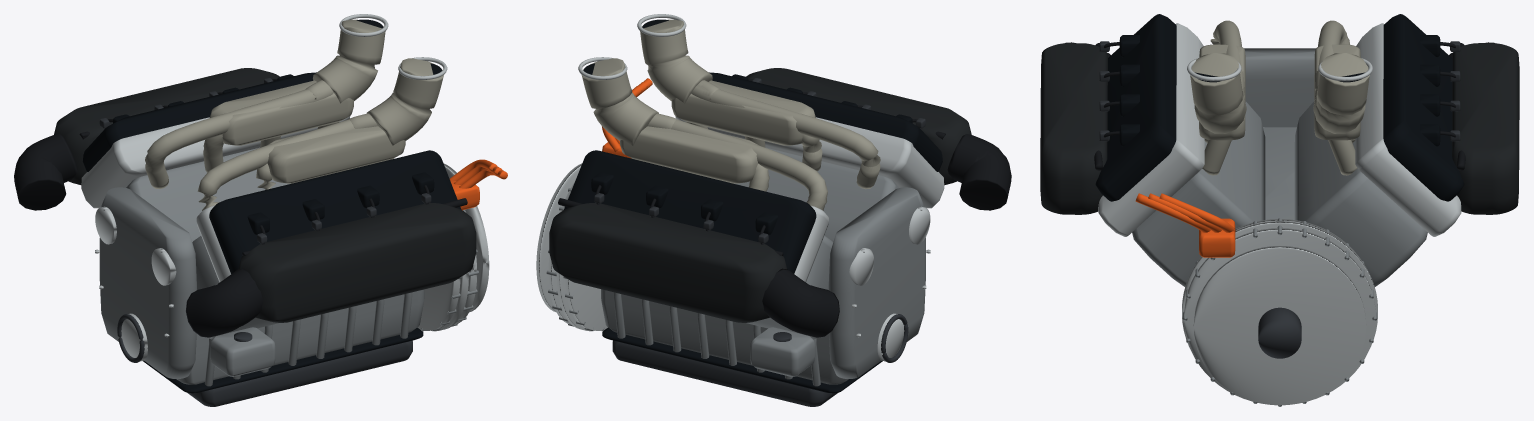
The model's file is engine-exterior.glb.
3 renders of one model, left to right at view 1: azimuth 30°, elevation 25°; view 2: azimuth 150°, elevation 25°; view 3: azimuth 270°, elevation 25°, orthographic. The views are drawn at different scales.
Parts seen in each view (by area): view 1: porsche918_outboard_intake_plenum_-1, porsche918_timing_case, porsche918_cam_cover_-1, porsche918_crankcase, porsche918_outboard_intake_plenum_1, porsche918_heatshield_-1, porsche918_heatshield_1, porsche918_cylinder_head_1, porsche918_bank_casting_1, porsche918_dry_sump_lower, porsche918_cam_cover_1, porsche918_outside_inlet_-1 (+19 smaller); view 2: porsche918_outboard_intake_plenum_1, porsche918_timing_case, porsche918_cam_cover_1, porsche918_crankcase, porsche918_outboard_intake_plenum_-1, porsche918_heatshield_1, porsche918_heatshield_-1, porsche918_cylinder_head_-1, porsche918_dry_sump_lower, porsche918_bank_casting_-1, porsche918_cam_cover_-1, porsche918_outside_inlet_1 (+19 smaller); view 3: porsche918_rear_hybrid_housing_385, porsche918_outboard_intake_plenum_-1, porsche918_outboard_intake_plenum_1, porsche918_bank_casting_1, porsche918_cam_cover_1, porsche918_cam_cover_-1, porsche918_bank_casting_-1, porsche918_cylinder_head_1, porsche918_cylinder_head_-1, porsche918_timing_case, porsche918_rear_hybrid_housing_348, porsche918_top_exhaust_-1 (+14 smaller).
Boxes of the visible parts, left/top/right/bottom form: porsche918_outboard_intake_plenum_-1: left=238, top=203, right=476, bottom=322; porsche918_timing_case: left=99, top=187, right=196, bottom=378; porsche918_cam_cover_-1: left=209, top=150, right=461, bottom=273; porsche918_crankcase: left=176, top=289, right=424, bottom=384; porsche918_outboard_intake_plenum_1: left=54, top=68, right=279, bottom=184; porsche918_heatshield_-1: left=267, top=126, right=405, bottom=183; porsche918_heatshield_1: left=209, top=80, right=353, bottom=145; porsche918_cylinder_head_1: left=81, top=116, right=350, bottom=208; porsche918_bank_casting_1: left=126, top=147, right=290, bottom=241; porsche918_dry_sump_lower: left=187, top=340, right=412, bottom=406; porsche918_cam_cover_1: left=82, top=72, right=316, bottom=171; porsche918_outside_inlet_-1: left=186, top=268, right=263, bottom=337; porsche918_outboard_intake_plenum_1: left=549, top=203, right=786, bottom=322; porsche918_timing_case: left=828, top=187, right=925, bottom=378; porsche918_cam_cover_1: left=564, top=150, right=816, bottom=273; porsche918_crankcase: left=601, top=289, right=848, bottom=384; porsche918_outboard_intake_plenum_-1: left=746, top=68, right=971, bottom=185; porsche918_heatshield_1: left=620, top=126, right=758, bottom=183; porsche918_heatshield_-1: left=671, top=80, right=815, bottom=145; porsche918_cylinder_head_-1: left=675, top=116, right=944, bottom=208; porsche918_dry_sump_lower: left=612, top=340, right=837, bottom=406; porsche918_bank_casting_-1: left=734, top=147, right=899, bottom=241; porsche918_cam_cover_-1: left=709, top=72, right=942, bottom=171; porsche918_outside_inlet_1: left=762, top=268, right=839, bottom=337; porsche918_rear_hybrid_housing_385: left=1193, top=246, right=1366, bottom=405; porsche918_outboard_intake_plenum_-1: left=1040, top=43, right=1107, bottom=214; porsche918_outboard_intake_plenum_1: left=1452, top=43, right=1519, bottom=214; porsche918_bank_casting_1: left=1294, top=101, right=1427, bottom=286; porsche918_cam_cover_1: left=1383, top=14, right=1464, bottom=201; porsche918_cam_cover_-1: left=1095, top=14, right=1176, bottom=201; porsche918_bank_casting_-1: left=1132, top=101, right=1265, bottom=286; porsche918_cylinder_head_1: left=1355, top=23, right=1461, bottom=236; porsche918_cylinder_head_-1: left=1098, top=23, right=1204, bottom=236; porsche918_timing_case: left=1244, top=48, right=1315, bottom=127; porsche918_rear_hybrid_housing_348: left=1184, top=228, right=1375, bottom=403; porsche918_top_exhaust_-1: left=1190, top=53, right=1246, bottom=133.
Size of the model in its own units: 0.8326 by 0.6404 by 0.84.
